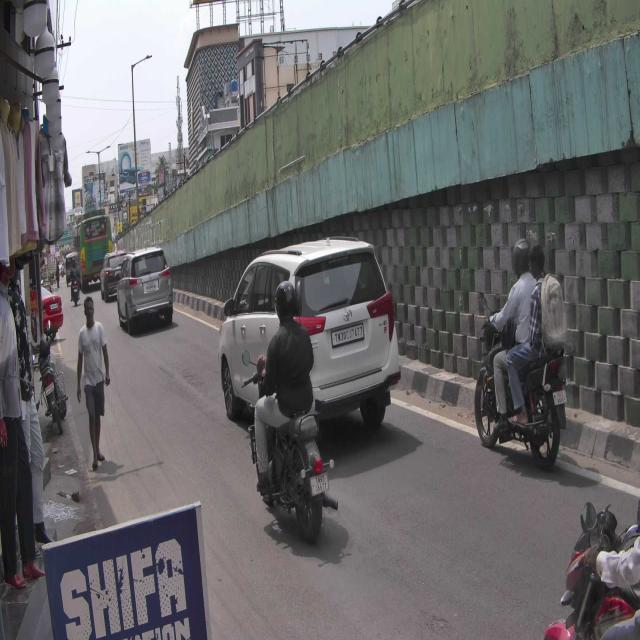double_rider: (474, 238, 568, 472)
single_rider: (240, 281, 338, 538)
